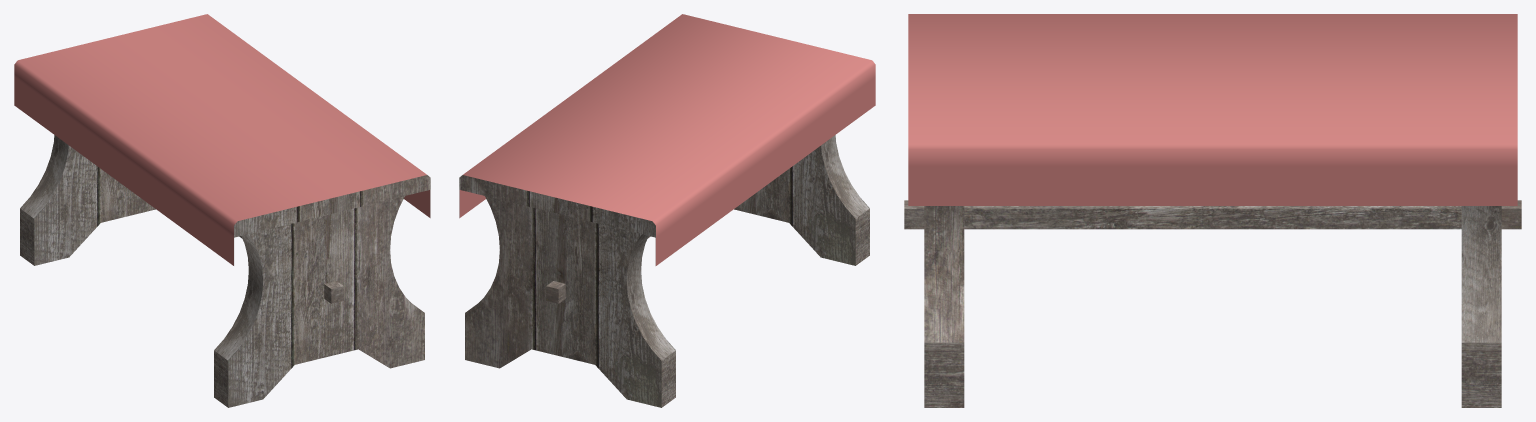
The model's file is Table.fbx.
3 views of the same model, side by side, from view 1: azimuth 30°, elevation 25°; view 2: azimuth 150°, elevation 25°; view 3: azimuth 270°, elevation 25° (orthographic). The views are drawn at different scales.
Parts seen in each view (by area): view 1: Model; view 2: Model; view 3: Model.
Part boxes in pixels (<box>): Model: <box>14,14,430,407</box>; Model: <box>459,14,875,407</box>; Model: <box>904,14,1521,407</box>.
Size of the model in its own units: 0.79 by 0.73 by 1.55.
